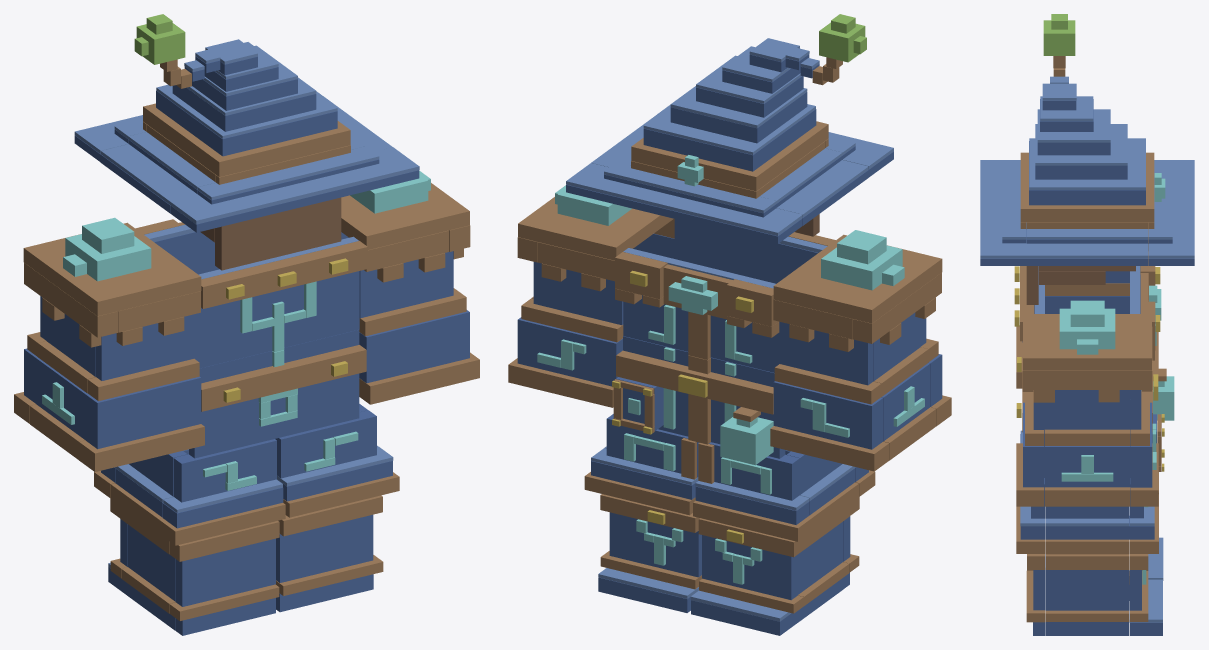
Rendered from arcanist_male_pieces.glb.
3 renders of one model, left to right at view 1: azimuth 30°, elevation 25°; view 2: azimuth 150°, elevation 25°; view 3: azimuth 270°, elevation 25°, orthographic. The views are drawn at different scales.
Parts seen in each view (by area): view 1: Head, Back, Chest, LeftUpperArm, LeftThigh, LeftForearm, LeftShin, RightThigh, RightUpperArm, RightForearm, RightShin, LeftFoot (+1 smaller); view 2: Chest, Head, LeftUpperArm, LeftForearm, LeftThigh, LeftShin, RightUpperArm, RightThigh, RightShin, RightForearm, Waist, Back (+2 smaller); view 3: Head, Chest, RightUpperArm, RightForearm, RightShin, RightThigh, RightFoot, LeftForearm, Back, LeftUpperArm, Waist, LeftFoot.
Part boxes in pixels (x1,y1,x2,y2): Head: (74, 14, 419, 270); Back: (189, 236, 367, 458); Chest: (23, 171, 469, 316); LeftUpperArm: (24, 262, 200, 401); LeftThigh: (94, 439, 285, 545); LeftForearm: (14, 348, 204, 471); LeftShin: (110, 498, 279, 620); RightThigh: (275, 404, 399, 517); RightUpperArm: (341, 225, 470, 336); RightForearm: (359, 310, 479, 404); RightShin: (276, 495, 383, 595); LeftFoot: (108, 562, 275, 635); Chest: (518, 185, 942, 458); Head: (566, 14, 893, 243); LeftUpperArm: (773, 272, 941, 404); LeftForearm: (770, 354, 951, 471); LeftThigh: (693, 442, 875, 541); LeftShin: (698, 497, 859, 613); RightUpperArm: (517, 218, 674, 342); RightThigh: (584, 414, 699, 515); RightShin: (600, 494, 701, 589); RightForearm: (508, 317, 622, 407); Waist: (612, 377, 773, 465); Back: (674, 219, 835, 283); Head: (980, 14, 1194, 304); Chest: (1023, 222, 1166, 477); RightUpperArm: (1022, 327, 1152, 445); RightForearm: (1016, 402, 1158, 506); RightShin: (1026, 554, 1148, 622); RightThigh: (1016, 478, 1158, 554); RightFoot: (1033, 579, 1162, 635); LeftForearm: (1016, 296, 1158, 388); Back: (1014, 266, 1044, 477); LeftUpperArm: (1034, 266, 1140, 313); Waist: (1152, 376, 1174, 471); LeftFoot: (1148, 537, 1163, 580).
Bounding box in the file's own units: 4.65 × 7.01 × 2.55.
